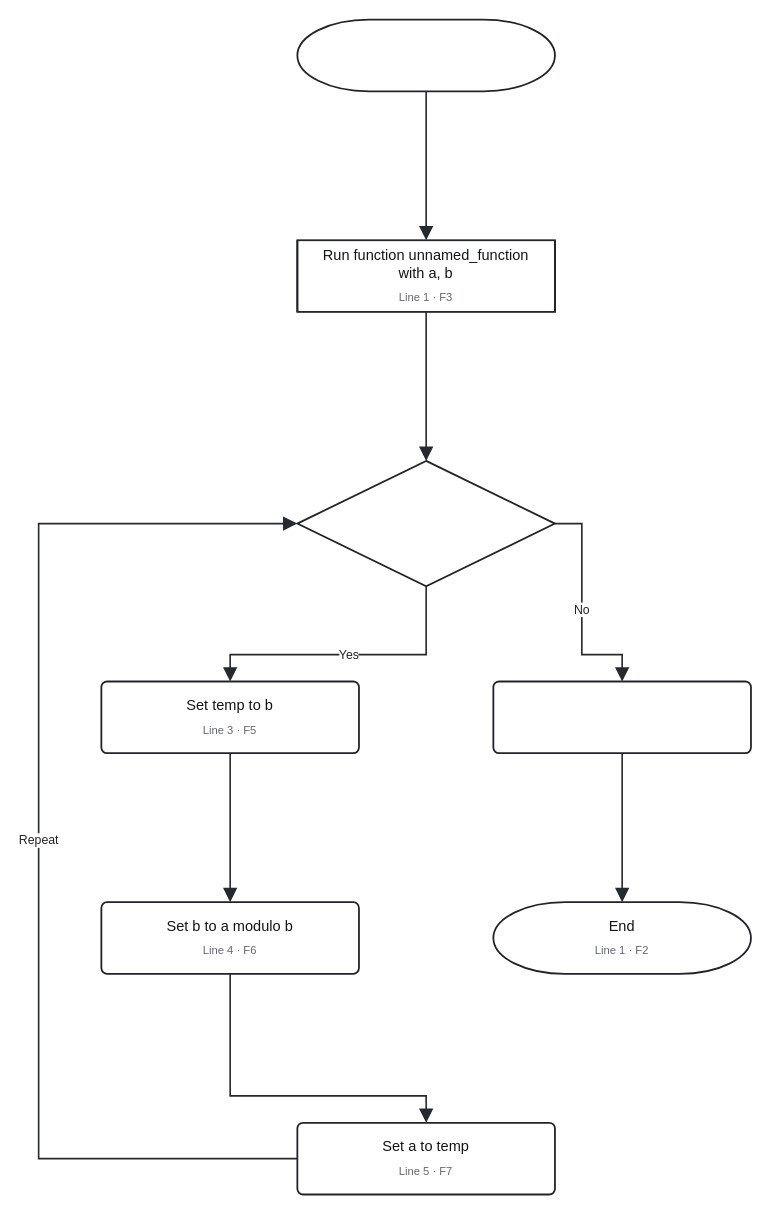
Some shapes in this 772 by 1215 pixel diagram are drawn without their labels. Here are the shapes that lost their labels. From the top down, the centre of each, then its label:
At (x=425, y=55): "Start Line 1 · F1".
At (x=425, y=523): "B is not equal to 0? Line 2 · F4".
At (x=621, y=717): "Return a Line 8 · F8".
